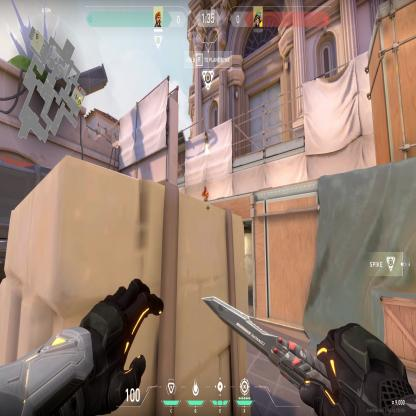enemy: (202, 184, 209, 201)
